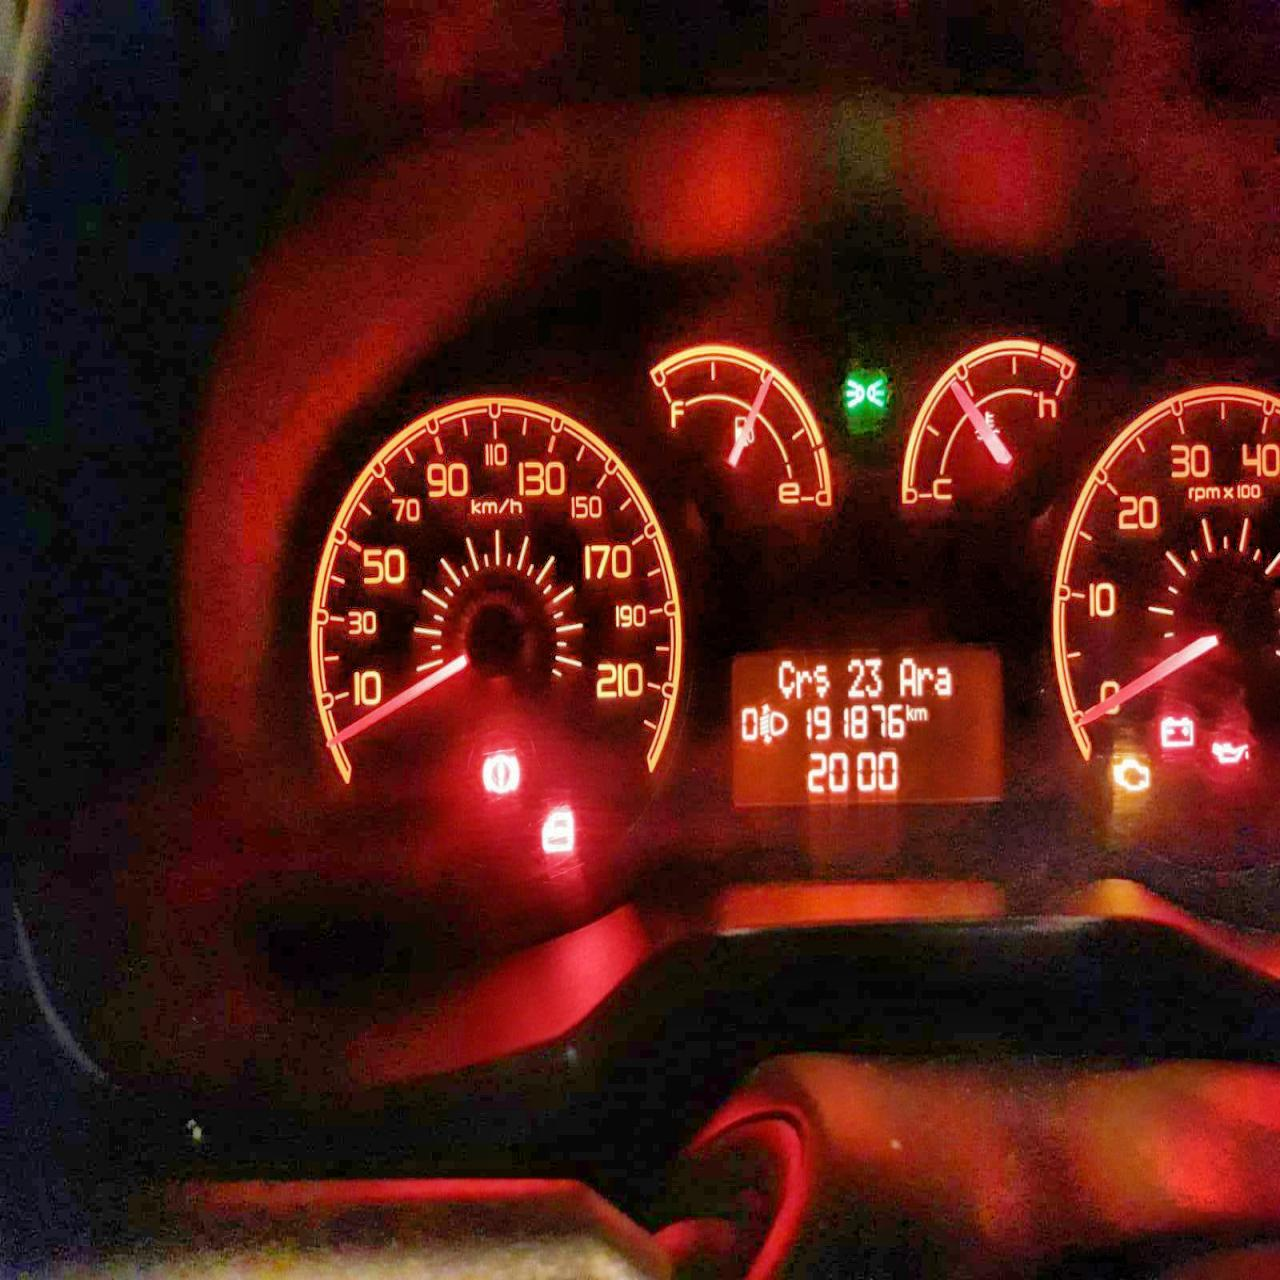0: (877, 748, 898, 790), (828, 750, 847, 795), (856, 750, 876, 791), (740, 704, 757, 740)
1: (813, 703, 831, 741), (840, 703, 849, 742), (805, 703, 812, 742)
2: (808, 750, 825, 792), (846, 656, 862, 697)
3: (864, 655, 881, 694)
6: (887, 702, 905, 740)
7: (870, 702, 885, 738)
8: (850, 703, 867, 741)
X: (898, 658, 917, 700), (776, 659, 795, 701), (812, 661, 830, 700), (937, 665, 953, 696), (795, 666, 809, 699), (917, 665, 932, 694), (913, 706, 927, 722), (905, 702, 913, 722)
odometer: (724, 646, 1009, 809)
